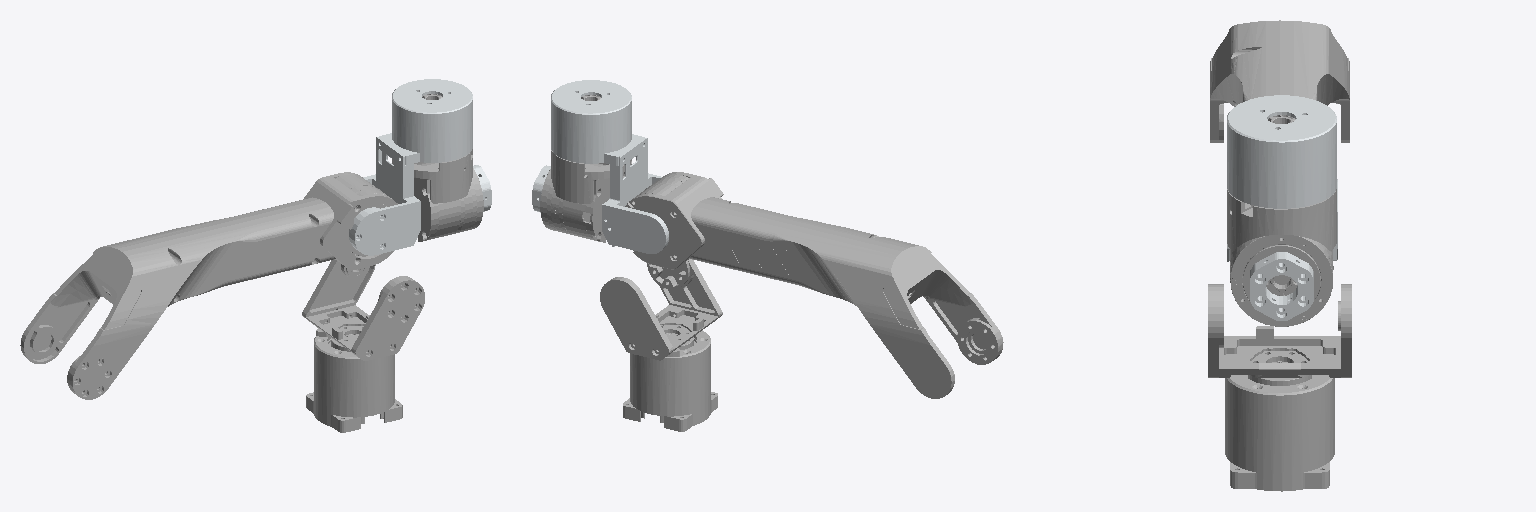
robot.urdf — ultron:
<?xml version="1.0" ?>
<!-- =================================================================================== -->
<!-- |    This document was autogenerated by xacro from ultron.xacro                   | -->
<!-- |    EDITING THIS FILE BY HAND IS NOT RECOMMENDED                                 | -->
<!-- =================================================================================== -->
<!-- This URDF was automatically created by SolidWorks to URDF Exporter! Originally created by
Stephen Brawner ([email redacted]) 
     Commit Version: 1.6.0-4-g7f85cfe  Build Version: 1.6.7995.38578
     For more information, please see http://wiki.ros.org/sw_urdf_exporter -->
<robot name="ultron">
  <!-- Used for fixing robot to Gazebo 'base_link' -->
  <link name="world"/>
  <joint name="fixed" type="fixed">
    <parent link="world"/>
    <child link="base_link"/>
  </joint>
  <!--base_link-->
  <link name="base_link">
    <inertial>
      <origin rpy="0 0 0" xyz="-2.9972E-05 3.056E-05 0.027301"/>
      <mass value="0.44038"/>
      <inertia ixx="0.00017" ixy="0.00000" ixz="0.00000" iyy="0.00018" iyz="0.00000" izz="0.00016"/>
    </inertial>
    <visual>
      <origin rpy="0 0 0" xyz="0 0 0"/>
      <geometry>
        <mesh filename="package://ultron_test/meshes/base_link.STL"/>
      </geometry>
      <material name="">
        <color rgba="0.75294 0.75294 0.75294 1"/>
      </material>
    </visual>
    <collision>
      <origin rpy="0 0 0" xyz="0 0 0"/>
      <geometry>
        <mesh filename="package://ultron_test/meshes/base_link.STL"/>
      </geometry>
    </collision>
  </link>
  <link name="link1">
    <inertial>
      <origin rpy="0 0 0" xyz="0.0060953 -0.0042968 0.017959"/>
      <mass value="0.060835"/>
      <inertia ixx="0.00008" ixy="0.00000" ixz="0.00001" iyy="0.00003" iyz="0.00000" izz="0.00007"/>
    </inertial>
    <visual>
      <origin rpy="0 0 0" xyz="0 0 0"/>
      <geometry>
        <mesh filename="package://ultron_test/meshes/link1.STL"/>
      </geometry>
      <material name="">
        <color rgba="0.75294 0.75294 0.75294 1"/>
      </material>
    </visual>
    <collision>
      <origin rpy="0 0 0" xyz="0 0 0"/>
      <geometry>
        <mesh filename="package://ultron_test/meshes/link1.STL"/>
      </geometry>
    </collision>
  </link>
  <joint name="joint1" type="revolute">
    <origin rpy="0 0 0" xyz="0 0 0.0603"/>
    <parent link="base_link"/>
    <child link="link1"/>
    <axis xyz="0 0 1"/>
    <limit effort="25.0" lower="-1.57" upper="1.57" velocity="10.0"/>
    <dynamics damping="0.1" friction="0.01"/>
  </joint>
  <link name="link2">
    <inertial>
      <origin rpy="0 0 0" xyz="-0.13238 0.0022038 0.00011179"/>
      <mass value="1.0733"/>
      <inertia ixx="0.00050" ixy="0.00000" ixz="-0.00004" iyy="0.01596" iyz="0.00000" izz="0.01602"/>
    </inertial>
    <visual>
      <origin rpy="0 0 0" xyz="0 0 0"/>
      <geometry>
        <mesh filename="package://ultron_test/meshes/link2.STL"/>
      </geometry>
      <material name="">
        <color rgba="0.75294 0.75294 0.75294 1"/>
      </material>
    </visual>
    <collision>
      <origin rpy="0 0 0" xyz="0 0 0"/>
      <geometry>
        <mesh filename="package://ultron_test/meshes/link2.STL"/>
      </geometry>
    </collision>
  </link>
  <joint name="joint2" type="revolute">
    <origin rpy="0 0 0" xyz="0.02 0 0.0402"/>
    <parent link="link1"/>
    <child link="link2"/>
    <axis xyz="0 1 0"/>
    <limit effort="25.0" lower="0." upper="3.14" velocity="10."/>
    <dynamics damping="0.1" friction="0.01"/>
  </joint>
  <link name="link3">
    <inertial>
      <origin rpy="0 0 0" xyz="0.1872 -0.00030568 -0.051483"/>
      <mass value="0.4994"/>
      <inertia ixx="0.00033" ixy="-0.00006" ixz="-0.00039" iyy="0.00387" iyz="0.00001" izz="0.00383"/>
    </inertial>
    <visual>
      <origin rpy="0 0 0" xyz="0 0 0"/>
      <geometry>
        <mesh filename="package://ultron_test/meshes/link3.STL"/>
      </geometry>
      <material name="">
        <color rgba="0.75294 0.75294 0.75294 1"/>
      </material>
    </visual>
    <collision>
      <origin rpy="0 0 0" xyz="0 0 0"/>
      <geometry>
        <mesh filename="package://ultron_test/meshes/link3.STL"/>
      </geometry>
    </collision>
  </link>
  <joint name="joint3" type="revolute">
    <origin rpy="-3.1416 0 0" xyz="-0.264 0 0"/>
    <parent link="link2"/>
    <child link="link3"/>
    <axis xyz="0 1 0"/>
    <limit effort="25." lower="0." upper="3.14" velocity="10."/>
    <dynamics damping="0.1" friction="0.01"/>
  </joint>
  <link name="link4">
    <inertial>
      <origin rpy="0 0 0" xyz="0.038888 0.0029517 -0.035328"/>
      <mass value="0.080971"/>
      <inertia ixx="0.00013" ixy="-0.00001" ixz="-0.00006" iyy="0.00016" iyz="0.00001" izz="0.00010"/>
    </inertial>
    <visual>
      <origin rpy="0 0 0" xyz="0 0 0"/>
      <geometry>
        <mesh filename="package://ultron_test/meshes/link4.STL"/>
      </geometry>
      <material name="">
        <color rgba="0.89804 0.91765 0.92941 1"/>
      </material>
    </visual>
    <collision>
      <origin rpy="0 0 0" xyz="0 0 0"/>
      <geometry>
        <mesh filename="package://ultron_test/meshes/link4.STL"/>
      </geometry>
    </collision>
  </link>
  <joint name="joint4" type="revolute">
    <origin rpy="0 0 0" xyz="0.245 0 -0.056"/>
    <parent link="link3"/>
    <child link="link4"/>
    <axis xyz="0 1 0"/>
    <limit effort="15.0" lower="-1.5" upper="1.5" velocity="10."/>
    <dynamics damping="0.1" friction="0.01"/>
  </joint>
  <link name="link5">
    <inertial>
      <origin rpy="0 0 0" xyz="0.0028996 3.1583E-05 0.052619"/>
      <mass value="0.60236"/>
      <inertia ixx="0.00072" ixy="0.00000" ixz="0.00005" iyy="0.00069" iyz="0.00000" izz="0.00021"/>
    </inertial>
    <visual>
      <origin rpy="0 0 0" xyz="0 0 0"/>
      <geometry>
        <mesh filename="package://ultron_test/meshes/link5.STL"/>
      </geometry>
      <material name="">
        <color rgba="0.75294 0.75294 0.75294 1"/>
      </material>
    </visual>
    <collision>
      <origin rpy="0 0 0" xyz="0 0 0"/>
      <geometry>
        <mesh filename="package://ultron_test/meshes/link5.STL"/>
      </geometry>
    </collision>
  </link>
  <joint name="joint5" type="revolute">
    <origin rpy="0 0 0" xyz="0.06575 -0.001 -0.0825"/>
    <parent link="link4"/>
    <child link="link5"/>
    <axis xyz="0 0 1"/>
    <limit effort="15.0" lower="-1.5" upper="1.5" velocity="10.0"/>
    <dynamics damping="0.1" friction="0.01"/>
  </joint>
  <link name="link6">
    <inertial>
      <origin rpy="0 0 0" xyz="0.0057417 4.26E-14 -2.498E-16"/>
      <mass value="0.019531"/>
      <inertia ixx="0.00000" ixy="0.00000" ixz="0.00000" iyy="0.00000" iyz="0.00000" izz="0.00000"/>
    </inertial>
    <visual>
      <origin rpy="0 0 0" xyz="0 0 0"/>
      <geometry>
        <mesh filename="package://ultron_test/meshes/link6.STL"/>
      </geometry>
      <material name="">
        <color rgba="0.89804 0.91765 0.92941 1"/>
      </material>
    </visual>
    <collision>
      <origin rpy="0 0 0" xyz="0 0 0"/>
      <geometry>
        <mesh filename="package://ultron_test/meshes/link6.STL"/>
      </geometry>
    </collision>
  </link>
  <joint name="joint6" type="revolute">
    <origin rpy="-3.1416 0 0" xyz="0.02845 0 0.0825"/>
    <parent link="link5"/>
    <child link="link6"/>
    <axis xyz="1 0 0"/>
    <limit effort="15." lower="-10" upper="10" velocity="10."/>
    <dynamics damping="0.1" friction="0.01"/>
  </joint>
  <transmission name="joint1_trans">
    <type>transmission_interface/SimpleTransmission</type>
    <joint name="joint1">
      <hardwareInterface>EffortJointInterface</hardwareInterface>
    </joint>
    <actuator name="joint1_motor">
      <mechanicalReduction>1</mechanicalReduction>
    </actuator>
  </transmission>
  <transmission name="joint2_trans">
    <type>transmission_interface/SimpleTransmission</type>
    <joint name="joint2">
      <hardwareInterface>EffortJointInterface</hardwareInterface>
    </joint>
    <actuator name="joint2_motor">
      <mechanicalReduction>1</mechanicalReduction>
    </actuator>
  </transmission>
  <transmission name="joint3_trans">
    <type>transmission_interface/SimpleTransmission</type>
    <joint name="joint3">
      <hardwareInterface>EffortJointInterface</hardwareInterface>
    </joint>
    <actuator name="joint3_motor">
      <mechanicalReduction>1</mechanicalReduction>
    </actuator>
  </transmission>
  <transmission name="joint4_trans">
    <type>transmission_interface/SimpleTransmission</type>
    <joint name="joint4">
      <hardwareInterface>EffortJointInterface</hardwareInterface>
    </joint>
    <actuator name="joint4_motor">
      <mechanicalReduction>1</mechanicalReduction>
    </actuator>
  </transmission>
  <transmission name="joint5_trans">
    <type>transmission_interface/SimpleTransmission</type>
    <joint name="joint5">
      <hardwareInterface>EffortJointInterface</hardwareInterface>
    </joint>
    <actuator name="joint5_motor">
      <mechanicalReduction>1</mechanicalReduction>
    </actuator>
  </transmission>
  <transmission name="joint6_trans">
    <type>transmission_interface/SimpleTransmission</type>
    <joint name="joint6">
      <hardwareInterface>EffortJointInterface</hardwareInterface>
    </joint>
    <actuator name="joint6_motor">
      <mechanicalReduction>1</mechanicalReduction>
    </actuator>
  </transmission>
  <!-- ros_control plugins -->
  <gazebo>
    <plugin filename="libgazebo_ros_control.so" name="gazebo_ros_control">
      <robotNamespace>/ultron</robotNamespace>
      <robotSimType>gazebo_ros_control/DefaultRobotHWSim</robotSimType>
      <legacyModeNS>true</legacyModeNS>
    </plugin>
    <plugin filename="libgazebo_ros_joint_state_publisher.so" name="joint_state_publisher">
      <!-- <robotNamespace>/robot_gazebo</robotNamespace> -->
      <jointName>joint1,joint2,joint3,joint4,joint5,joint6</jointName>
      <updateRate>50.0</updateRate>
      <alwaysOn>true</alwaysOn>
    </plugin>
  </gazebo>
</robot>

--- Facts derived from the render (not from the file) ---
3 views of the same robot in one strip: view 1: azimuth 30°, elevation 25°; view 2: azimuth 150°, elevation 25°; view 3: azimuth 270°, elevation 25° (orthographic).
Model ultron with 8 links and 7 joints (6 revolute, 1 fixed), rooted at world, posed every joint at zero.
Links seen in each view (by area): view 1: link3, link4, link1, base_link, link5; view 2: link3, link4, link1, base_link, link5; view 3: base_link, link4, link3, link5, link1, link6.
Boxes of the visible links, box(x1,y1,x2,y2) form: link3: box(20, 172, 397, 399); link4: box(349, 79, 472, 255); link1: box(302, 260, 424, 360); base_link: box(306, 328, 402, 432); link5: box(392, 94, 483, 241); link3: box(625, 172, 1003, 398); link4: box(551, 80, 668, 253); link1: box(600, 259, 722, 360); base_link: box(623, 330, 717, 431); link5: box(540, 95, 631, 242); base_link: box(1225, 361, 1334, 491); link4: box(1227, 95, 1337, 261); link3: box(1210, 20, 1349, 142); link5: box(1227, 115, 1336, 326); link1: box(1208, 284, 1351, 377); link6: box(1250, 252, 1313, 320).
Size in the robot's own frame: 0.3684 by 0.0785 by 0.241 metres.
Meshes: 7 distinct files referenced, 6 mesh visuals loaded (6 binary STL); not drawn: 1 (reference not matched to a file when rendering).
